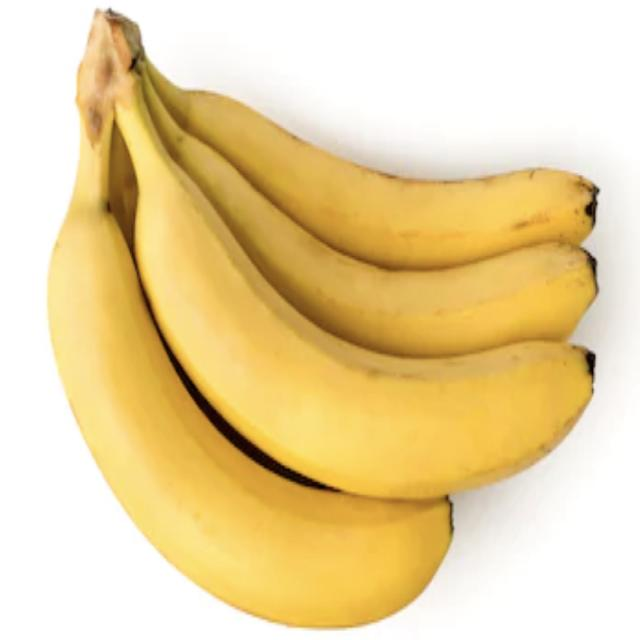god quality banana: (48, 10, 598, 627)
